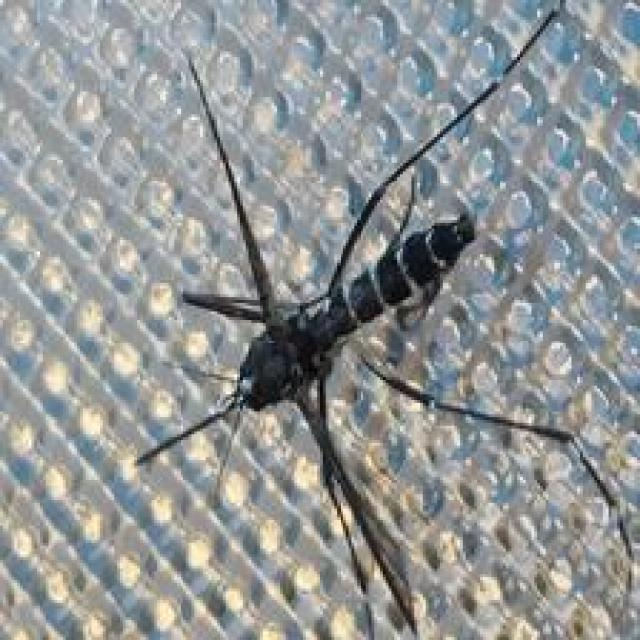Aedes albopictus: (132, 1, 637, 638)
